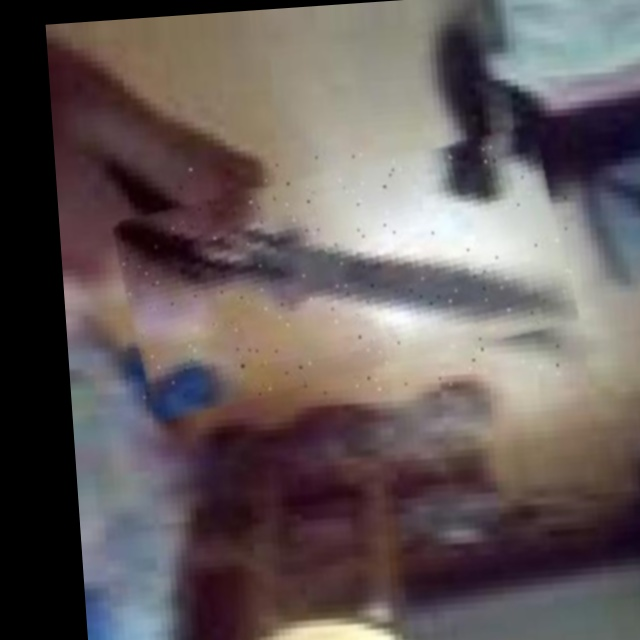Sharp-Object: (115, 139, 578, 406)
